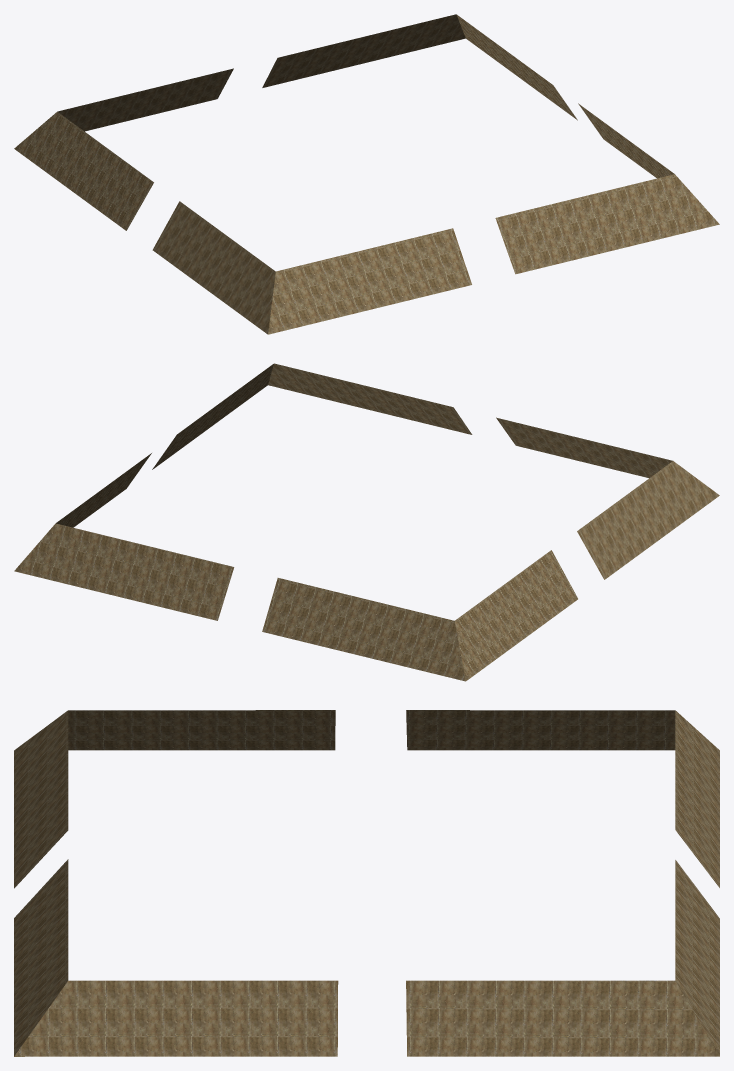
3 renders of one model, top to bottom at view 1: azimuth 30°, elevation 25°; view 2: azimuth 150°, elevation 25°; view 3: azimuth 270°, elevation 25°, orthographic. The views are drawn at different scales.
Parts seen in each view (by area): view 1: wq01; view 2: wq01; view 3: wq01.
Part boxes in pixels (box(x1,y1,x2,y2)): wq01: box(14, 14, 719, 334); wq01: box(14, 363, 719, 681); wq01: box(14, 710, 719, 1056).
Bounding box in the file's own units: 14361 × 1285 × 13987.
1 material, 1 textured.
